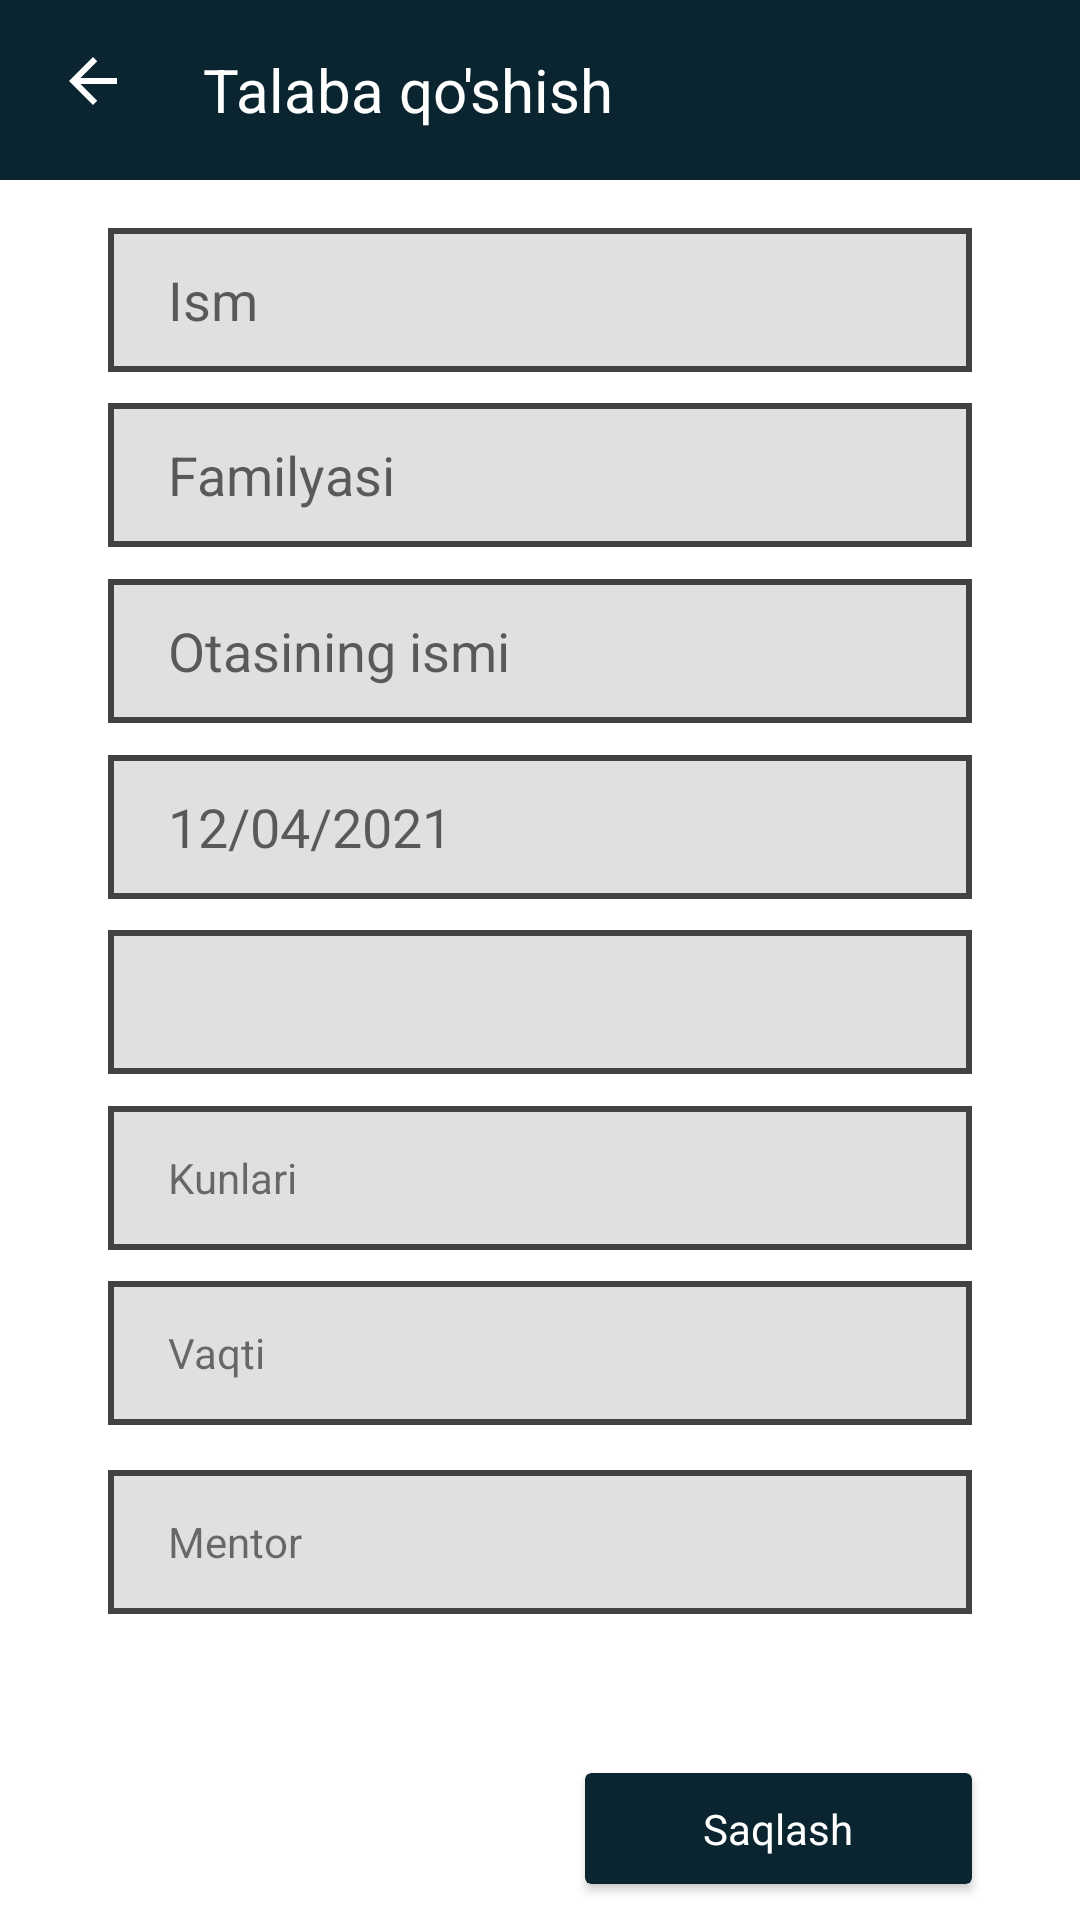

Point at icon controls on the screen. Image size 1080 × 1920, points as (x=x, y=y).
arrow back: (x=93, y=81)
